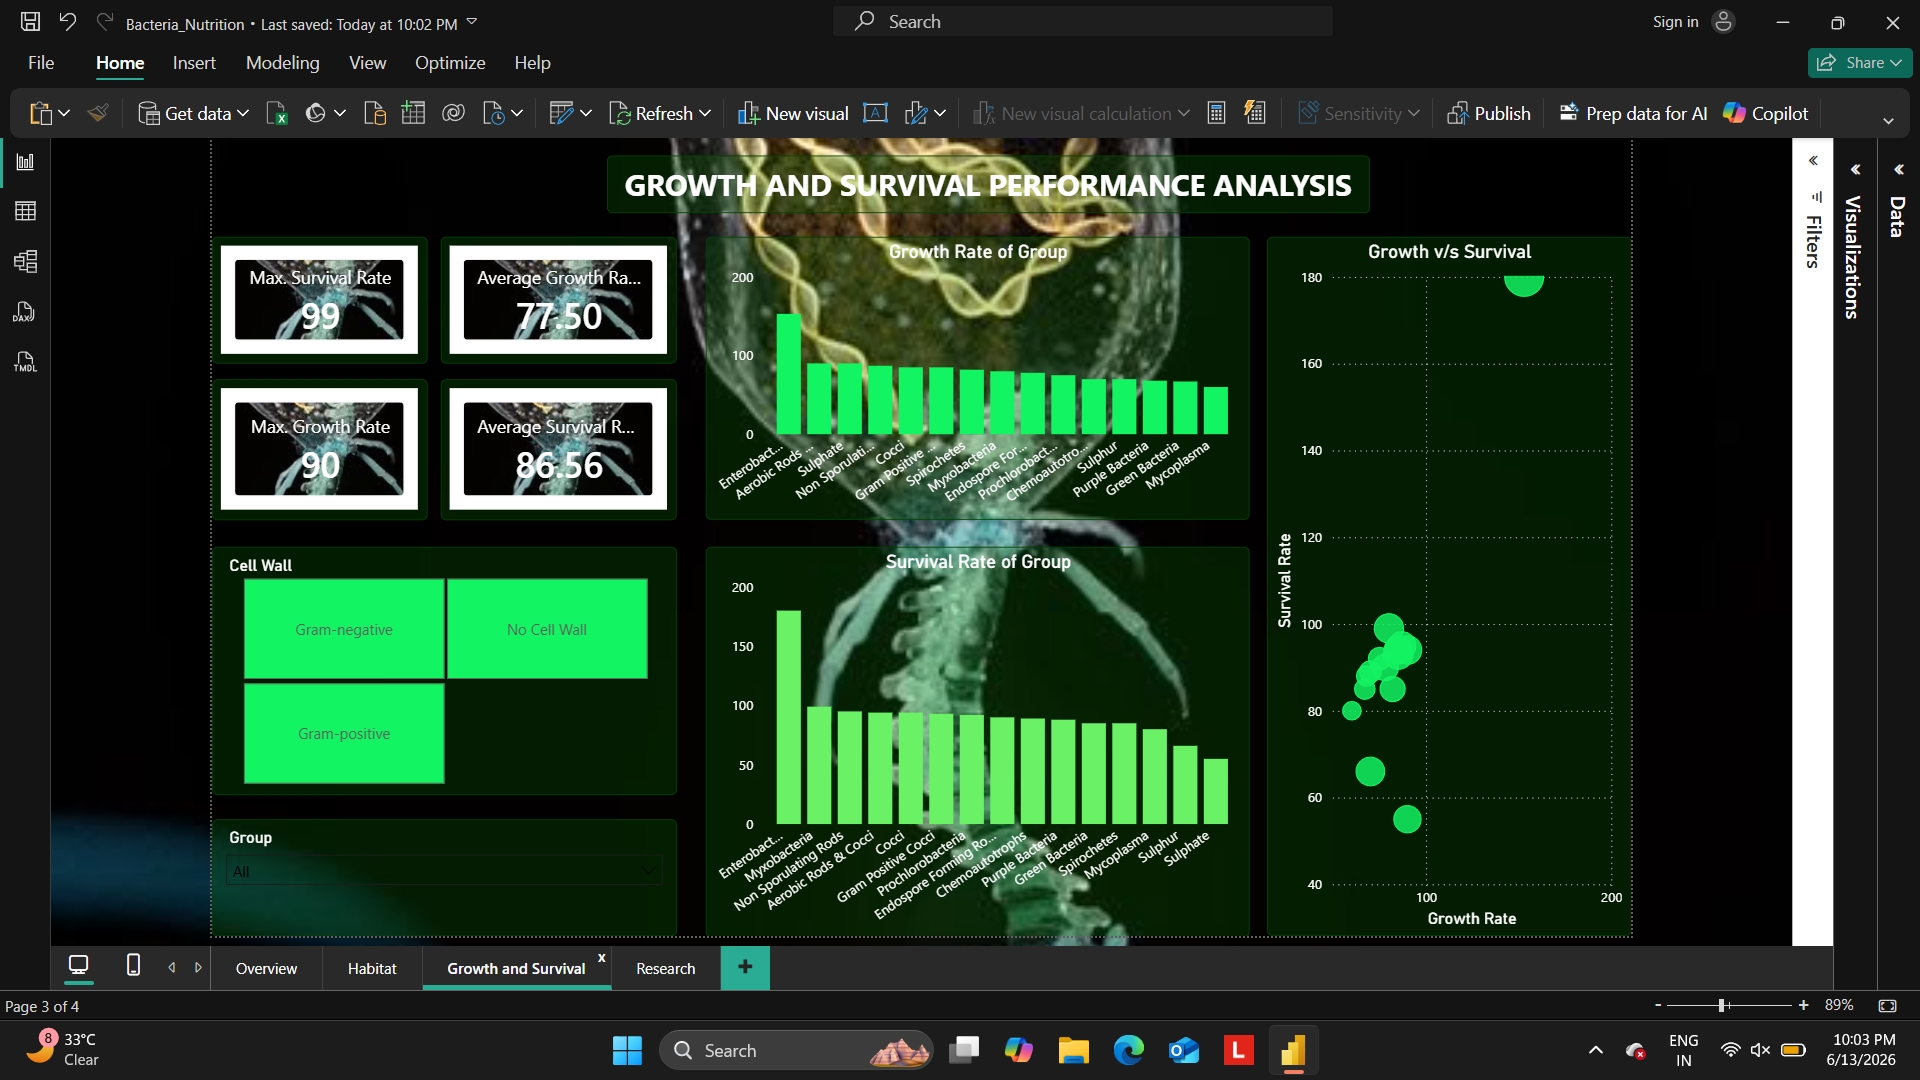

The page's visual inventory and layout, read from the dashboard file:
{"tool":"powerbi","page":{"name":"Growth and Survival","canvas":[1280,720],"ordinal":2},"visuals":[{"type":"textbox","box":[355.8,16.2,687.9,52.2],"z":0},{"type":"scatterChart","title":"Growth v/s Survival","fields":{"X":["Sum(Sheet1.Growth_Rate_%)"],"Y":["Sum(Sheet1.Survival_Rate_%)"],"Size":["Sum(Sheet1.Species_Count)"],"Category":["Sheet1.Group"]},"box":[951.6,89.6,328.4,630.7],"z":1000},{"type":"clusteredColumnChart","title":"Growth Rate of Group","fields":{"Category":["Sheet1.Group"],"Y":["Sum(Sheet1.Growth_Rate_%)"]},"box":[445.3,89.6,490.1,255],"z":2000},{"type":"clusteredColumnChart","title":"Survival Rate of Group","fields":{"Category":["Sheet1.Group"],"Y":["Sum(Sheet1.Survival_Rate_%)"]},"box":[445.3,368.2,490.1,352],"z":3000},{"type":"cardVisual","fields":{"Data":["Max(Sheet1.Growth_Rate_%)"]},"box":[0,217.7,194.1,126.9],"z":4000},{"type":"cardVisual","fields":{"Data":["Max(Sheet1.Survival_Rate_%)"]},"box":[0,89.6,194.1,114.4],"z":5000},{"type":"cardVisual","fields":{"Data":["Avg(Sheet1.Growth_Rate_%)"]},"box":[206.5,89.6,212.7,114.4],"z":6000},{"type":"cardVisual","fields":{"Data":["Avg(Sheet1.Survival_Rate_%)"]},"box":[206.5,217.7,212.7,126.9],"z":7000},{"type":"slicer","fields":{"Values":["Sheet1.Group"]},"box":[0,614.5,419.2,105.7],"z":8000},{"type":"slicer","fields":{"Values":["Sheet1.Cell Wall"]},"box":[0,368.2,419.2,223.9],"z":9000}]}

Visuals, with their boxes on the page's 1280x720 design canvas (x1, y1, x2, y2). These are canvas units, not pixel positions in the 1920x1080 screenshot, which may show the page scaled, cropped or inside an application window:
textbox: 356 16 1044 68
"Growth v/s Survival" scatterChart: 952 90 1280 720
"Growth Rate of Group" clusteredColumnChart: 445 90 935 345
"Survival Rate of Group" clusteredColumnChart: 445 368 935 720
cardVisual - Max(Sheet1.Growth_Rate_%): 0 218 194 345
cardVisual - Max(Sheet1.Survival_Rate_%): 0 90 194 204
cardVisual - Avg(Sheet1.Growth_Rate_%): 206 90 419 204
cardVisual - Avg(Sheet1.Survival_Rate_%): 206 218 419 345
slicer - Sheet1.Group: 0 614 419 720
slicer - Sheet1.Cell Wall: 0 368 419 592
